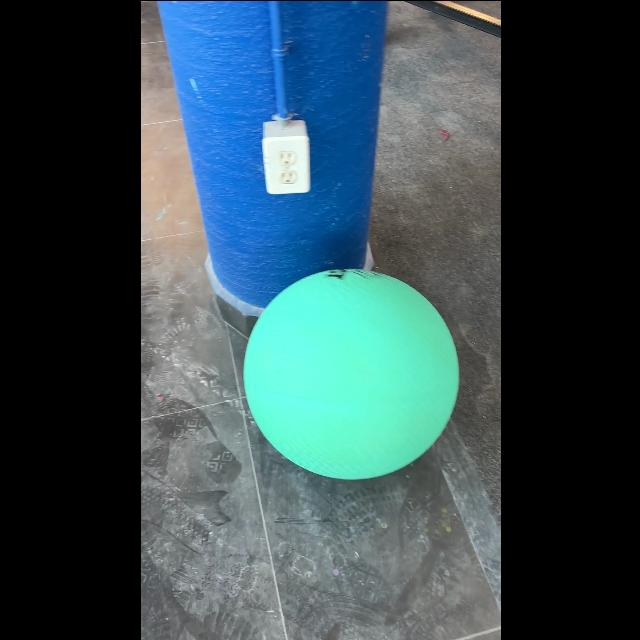ALGAE: (241, 266, 459, 480)
